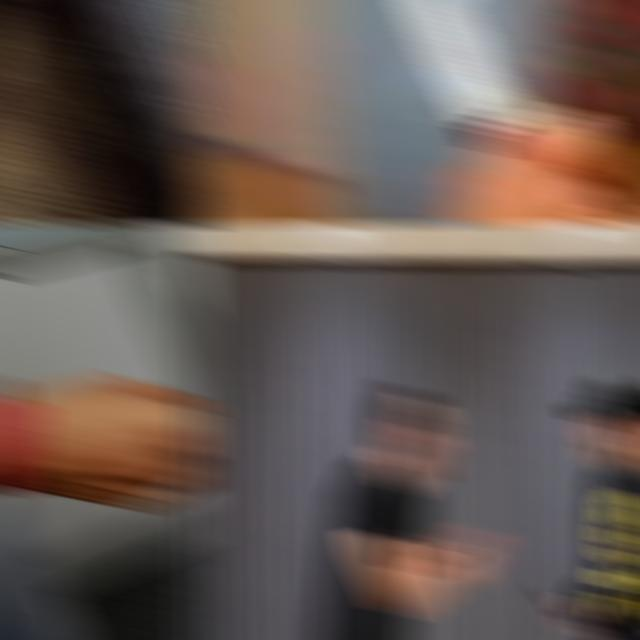Knife_Handle: (342, 0, 640, 226), (544, 585, 606, 638)
